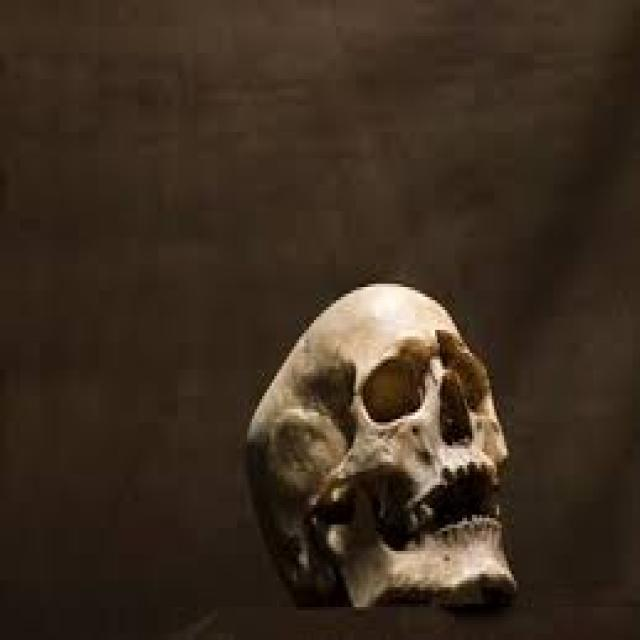skull: (238, 270, 526, 640)
